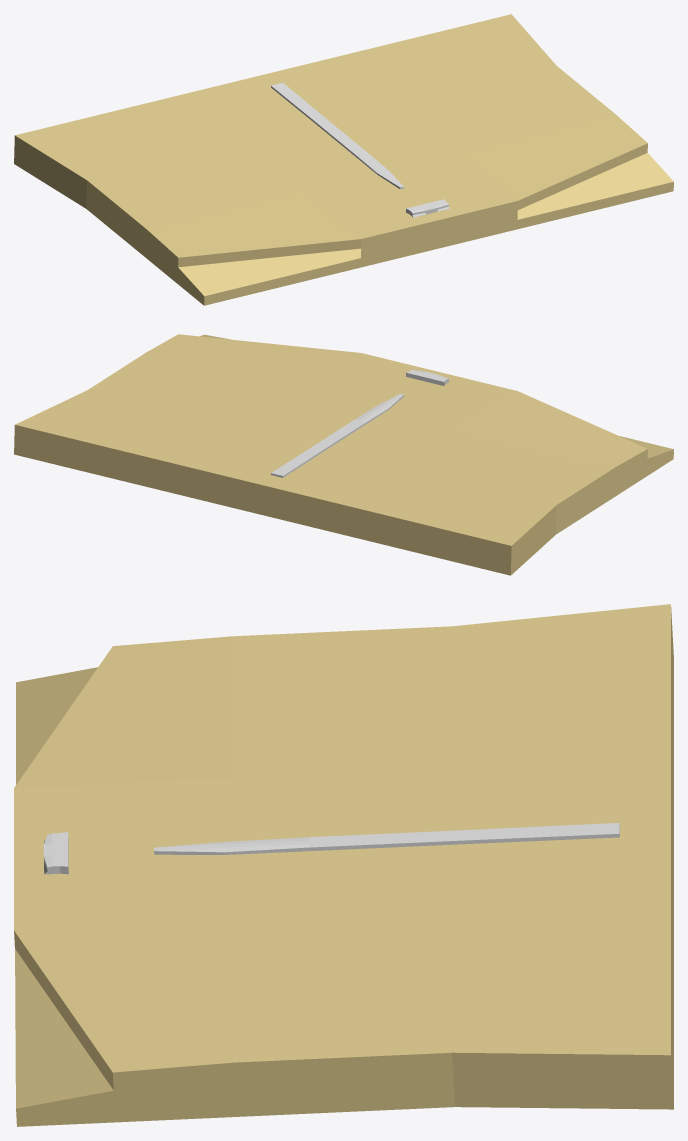
The model's file is baule.fbx.
3 renders of one model, top to bottom at view 1: azimuth 30°, elevation 25°; view 2: azimuth 150°, elevation 25°; view 3: azimuth 270°, elevation 25°, orthographic. The views are drawn at different scales.
Parts seen in each view (by area): view 1: Cube_7_4, Cube_9, Cube_8_3; view 2: Cube_7_4, Cube_9, Cube_8_3; view 3: Cube_7_4, Cube_9, Cube_8_3.
Boxes of the visible parts, x1,y1,x2,y2 form: Cube_7_4: [14, 14, 673, 305]; Cube_9: [271, 82, 403, 189]; Cube_8_3: [406, 199, 449, 217]; Cube_7_4: [14, 334, 673, 575]; Cube_9: [271, 394, 403, 477]; Cube_8_3: [406, 370, 449, 385]; Cube_7_4: [14, 604, 673, 1126]; Cube_9: [154, 823, 619, 854]; Cube_8_3: [43, 832, 68, 874].
Bounding box in the file's own units: 163 × 14.4 × 101.
